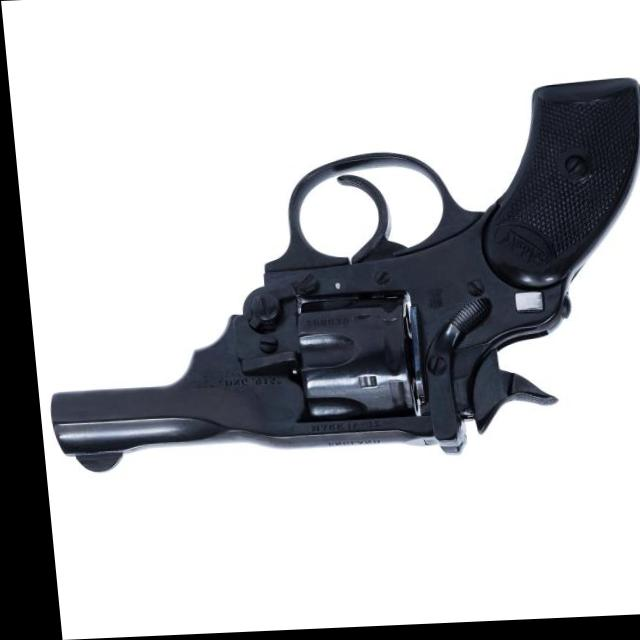handgun: (18, 83, 640, 477)
